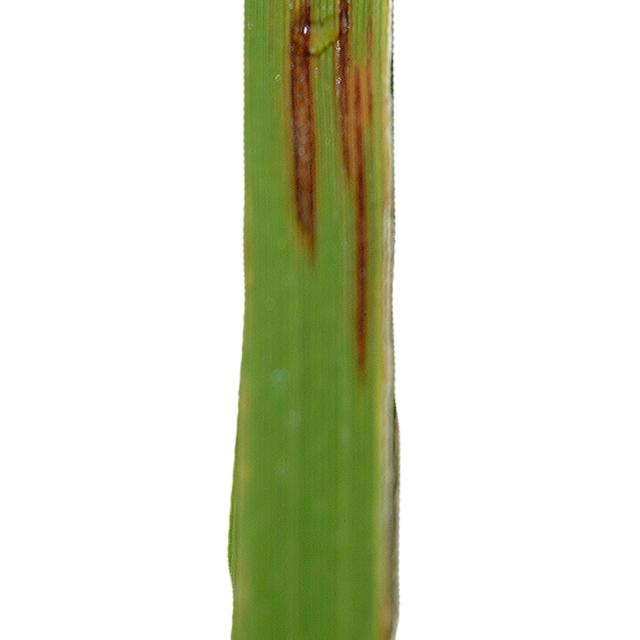Narrow brown: (210, 0, 548, 640)
